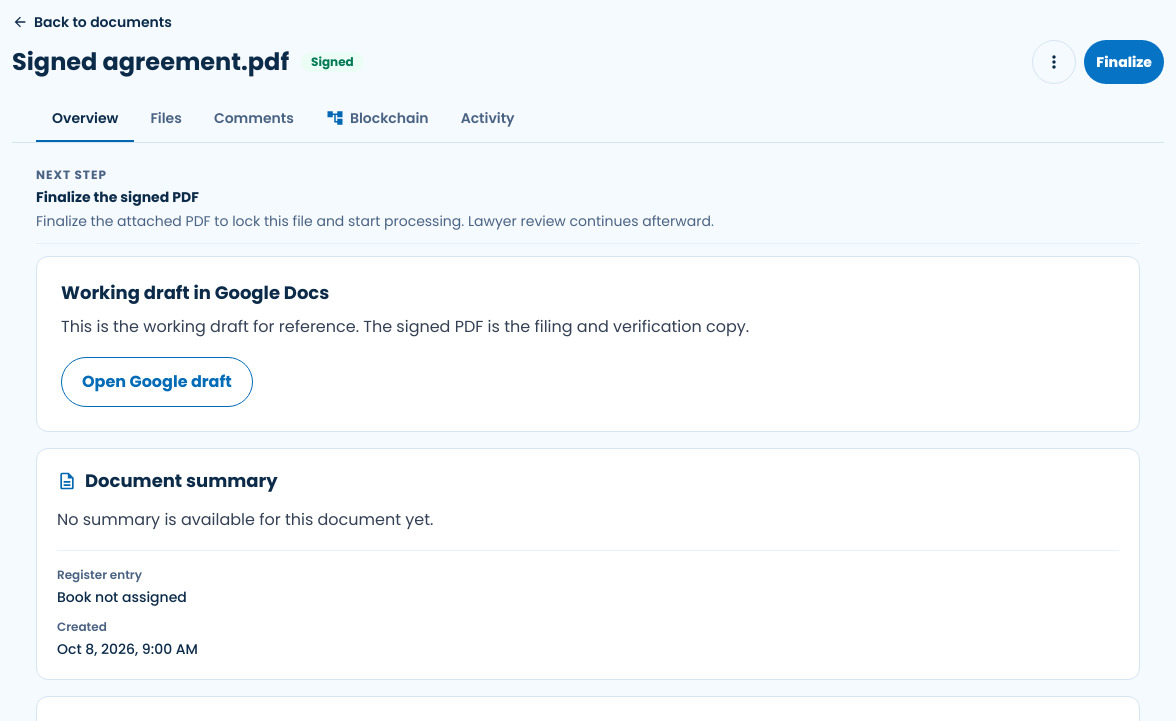
Test: document detail screen › shows rename and finalize controls only when permitted by the backend
The width and height of the screenshot is (1176, 721).
Click the button named "More document actions".
click(1054, 62)  # box x1=1032 y1=40 x2=1076 y2=84
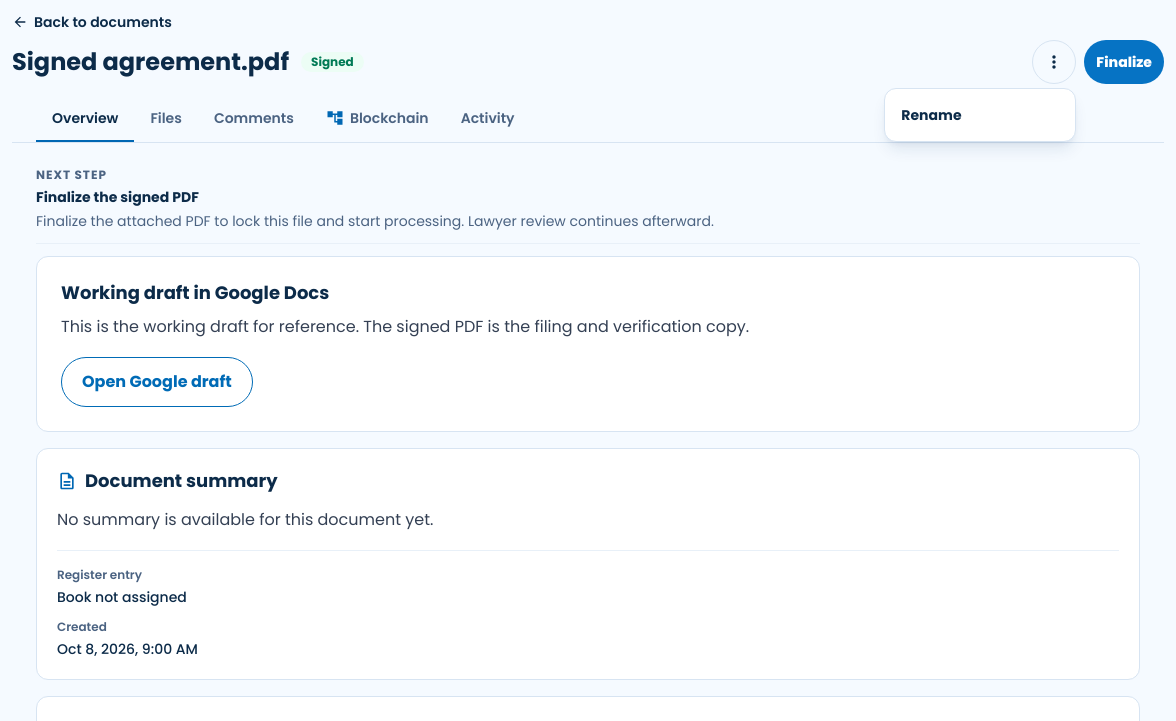
Expected: the button "Finalize" is shown, x1=1084 y1=40 x2=1164 y2=84
Result: the button "Rename" is shown at x1=889 y1=93 x2=1071 y2=137
